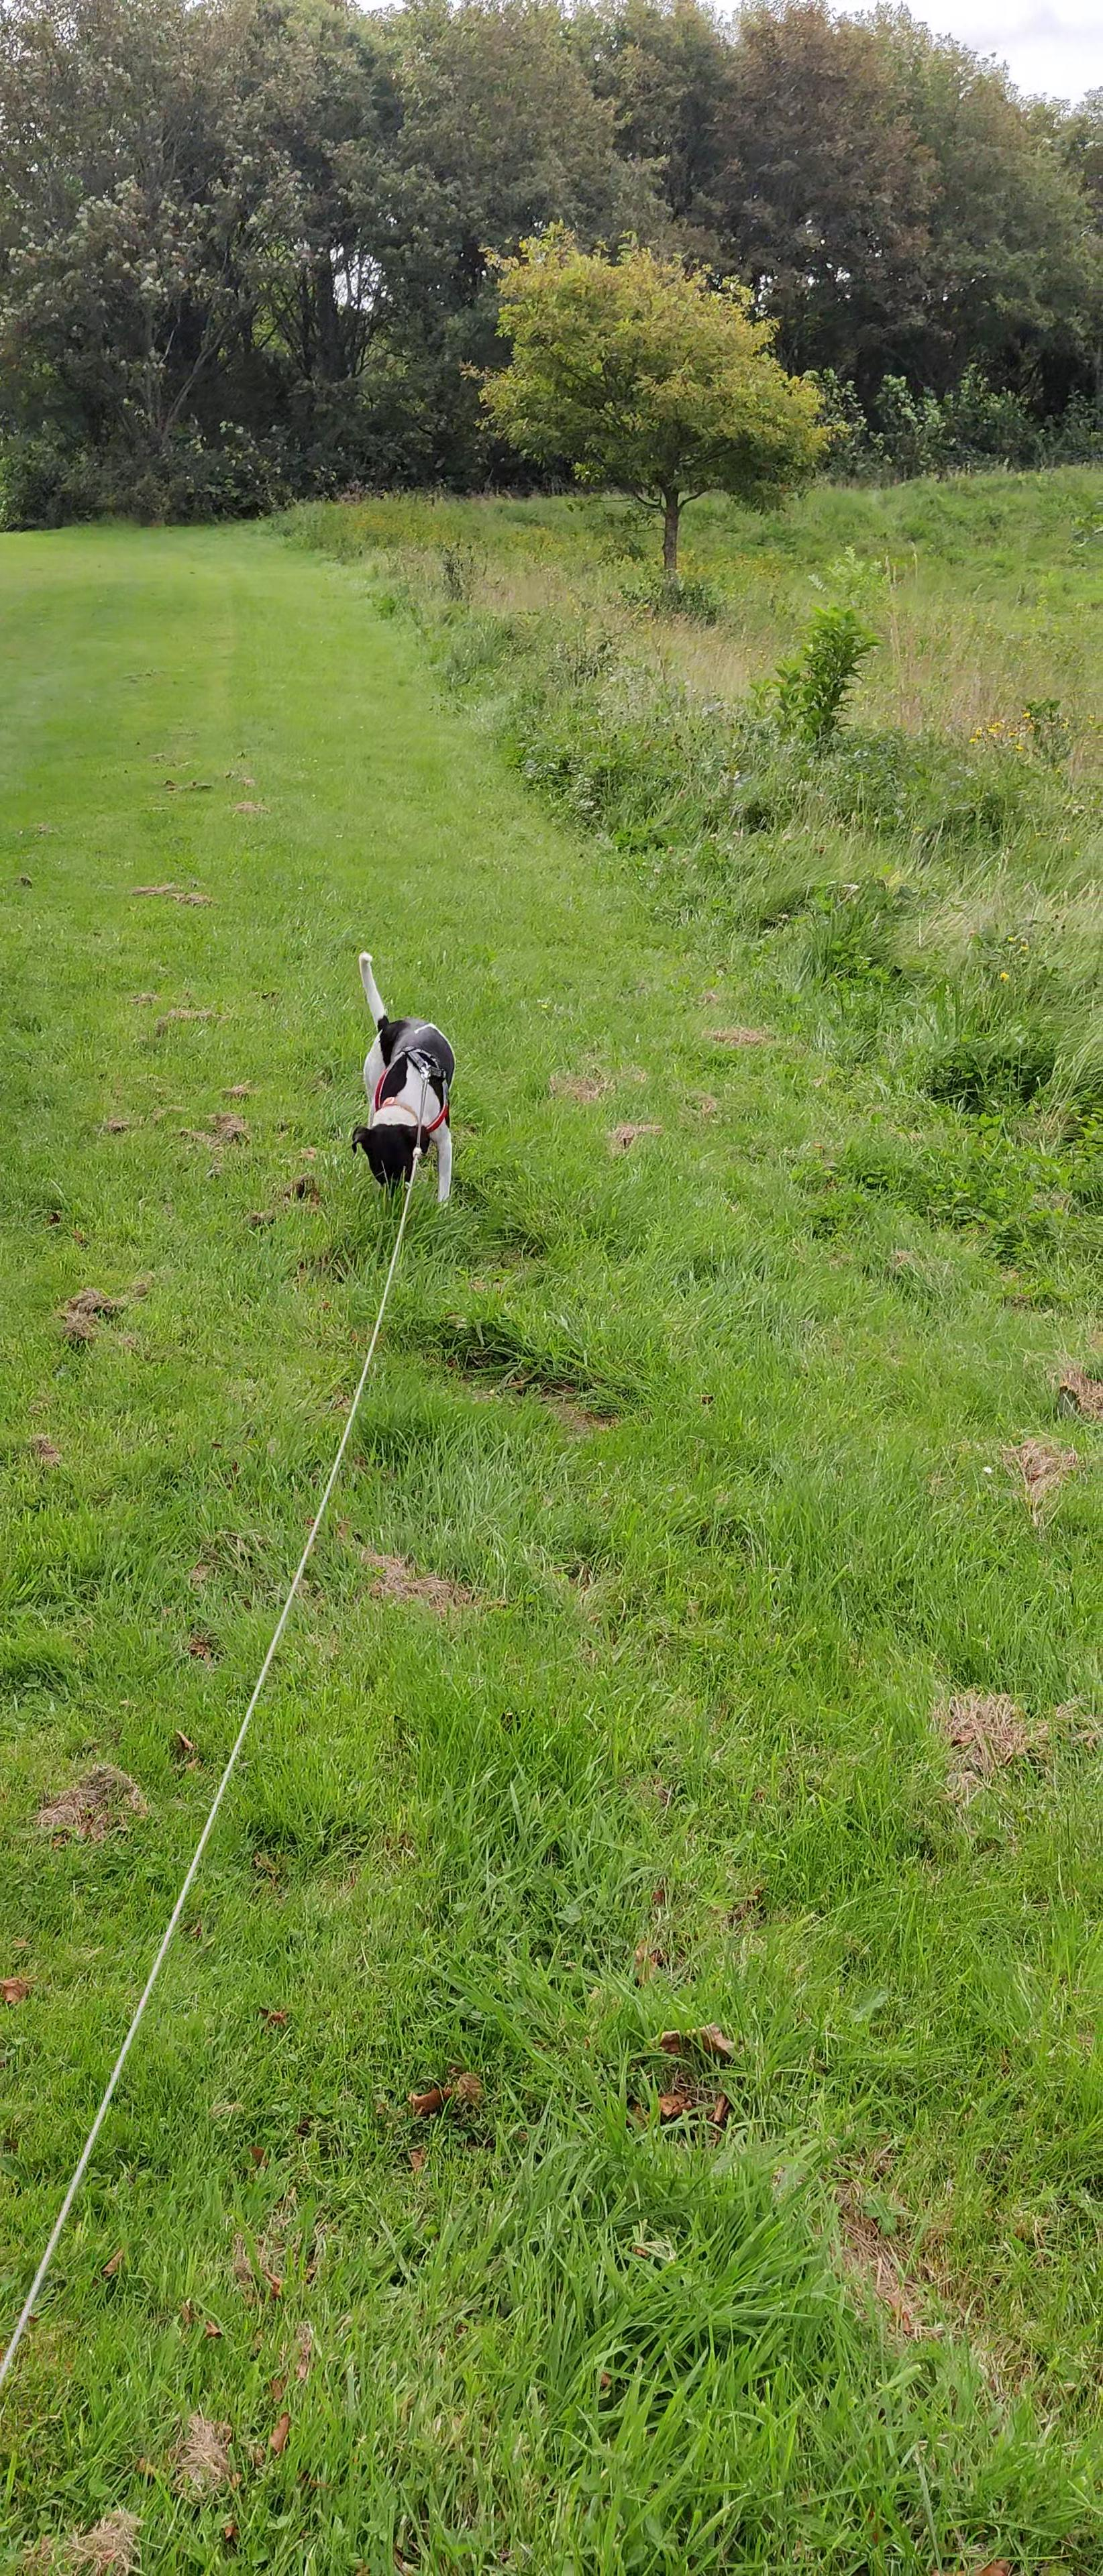Dog: (342, 945, 467, 1211)
